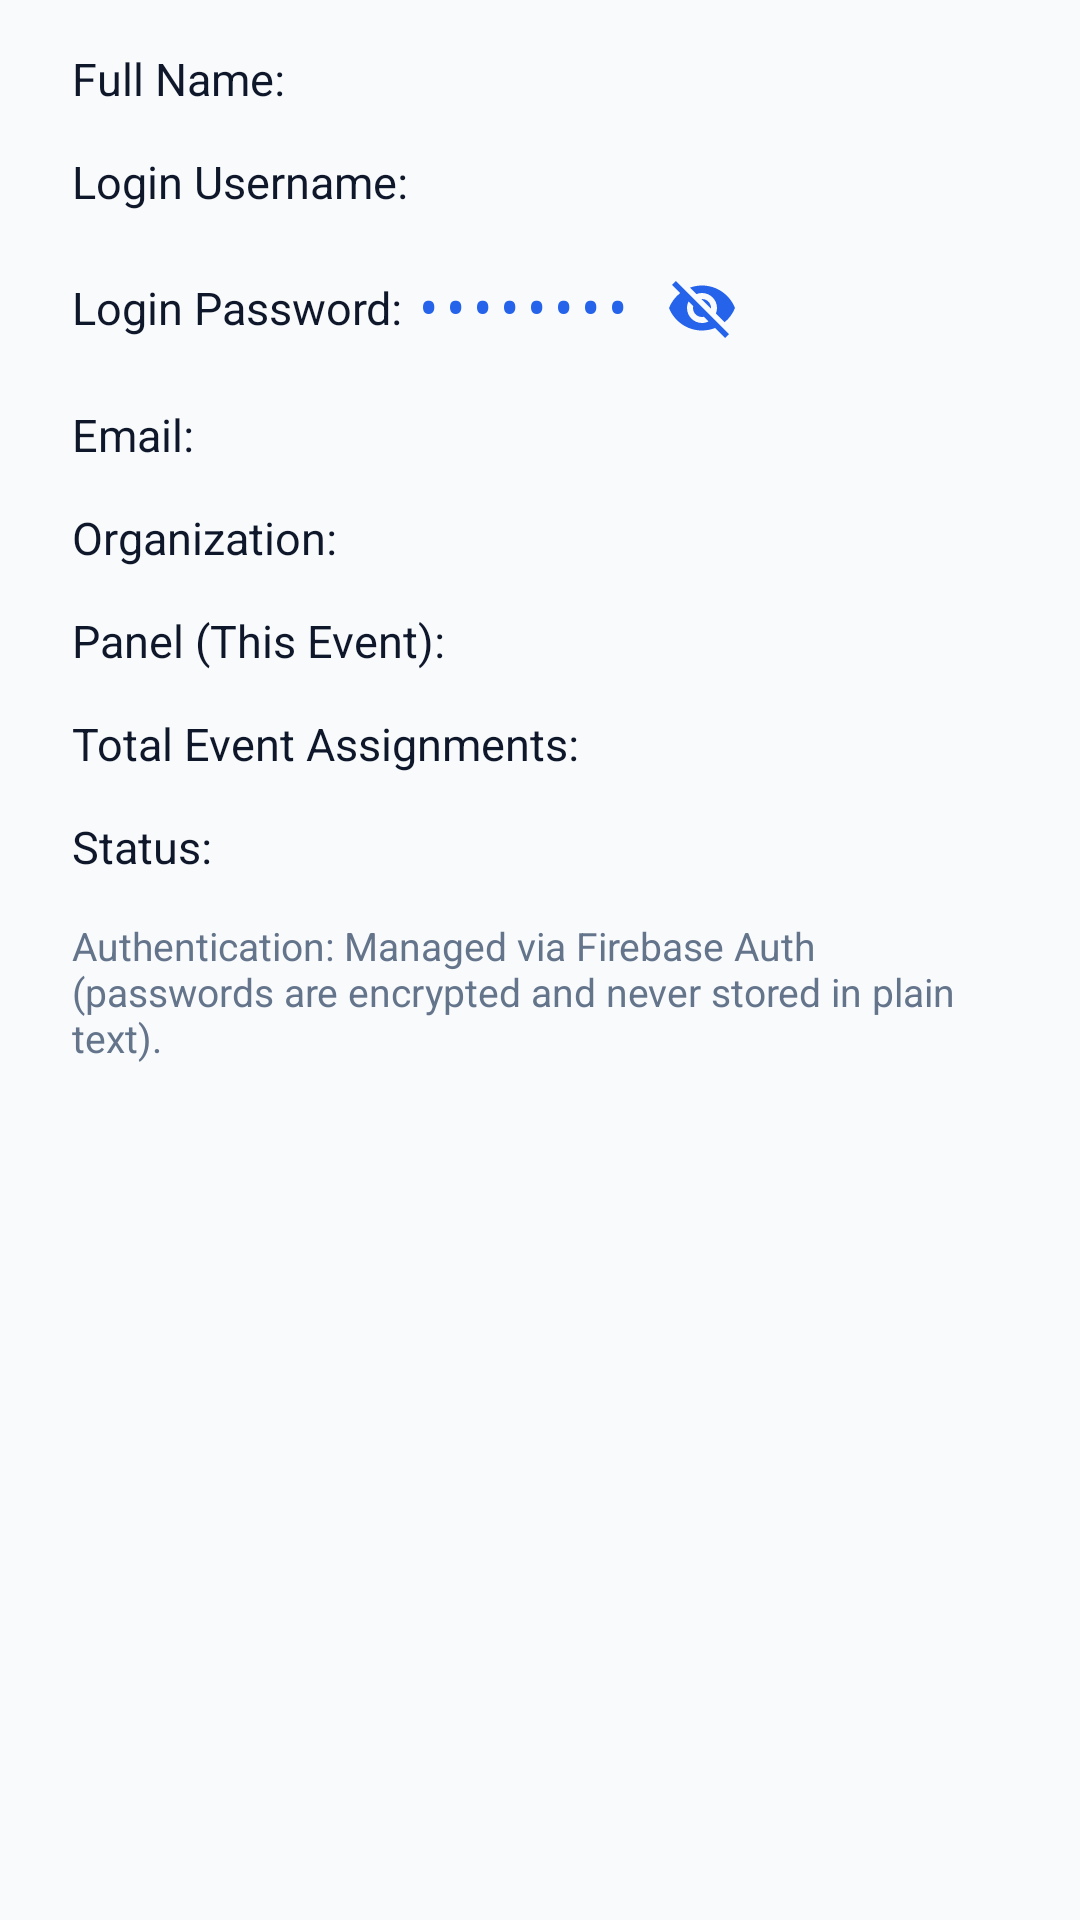

Locate icon controls on the screen. Image size 1080 × 1920, boxes as {"x1": x1, "y1": y1, "x2": x2, "y2": y2}.
Toggle Password Visibility: {"x1": 669, "y1": 281, "x2": 735, "y2": 338}
